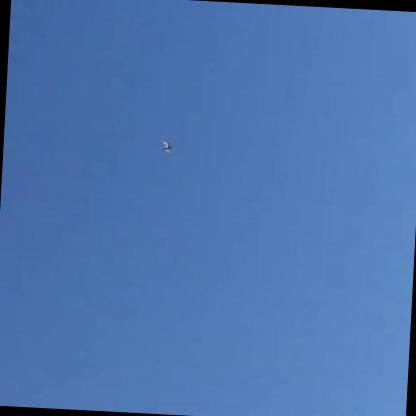plane: (161, 139, 172, 152)
